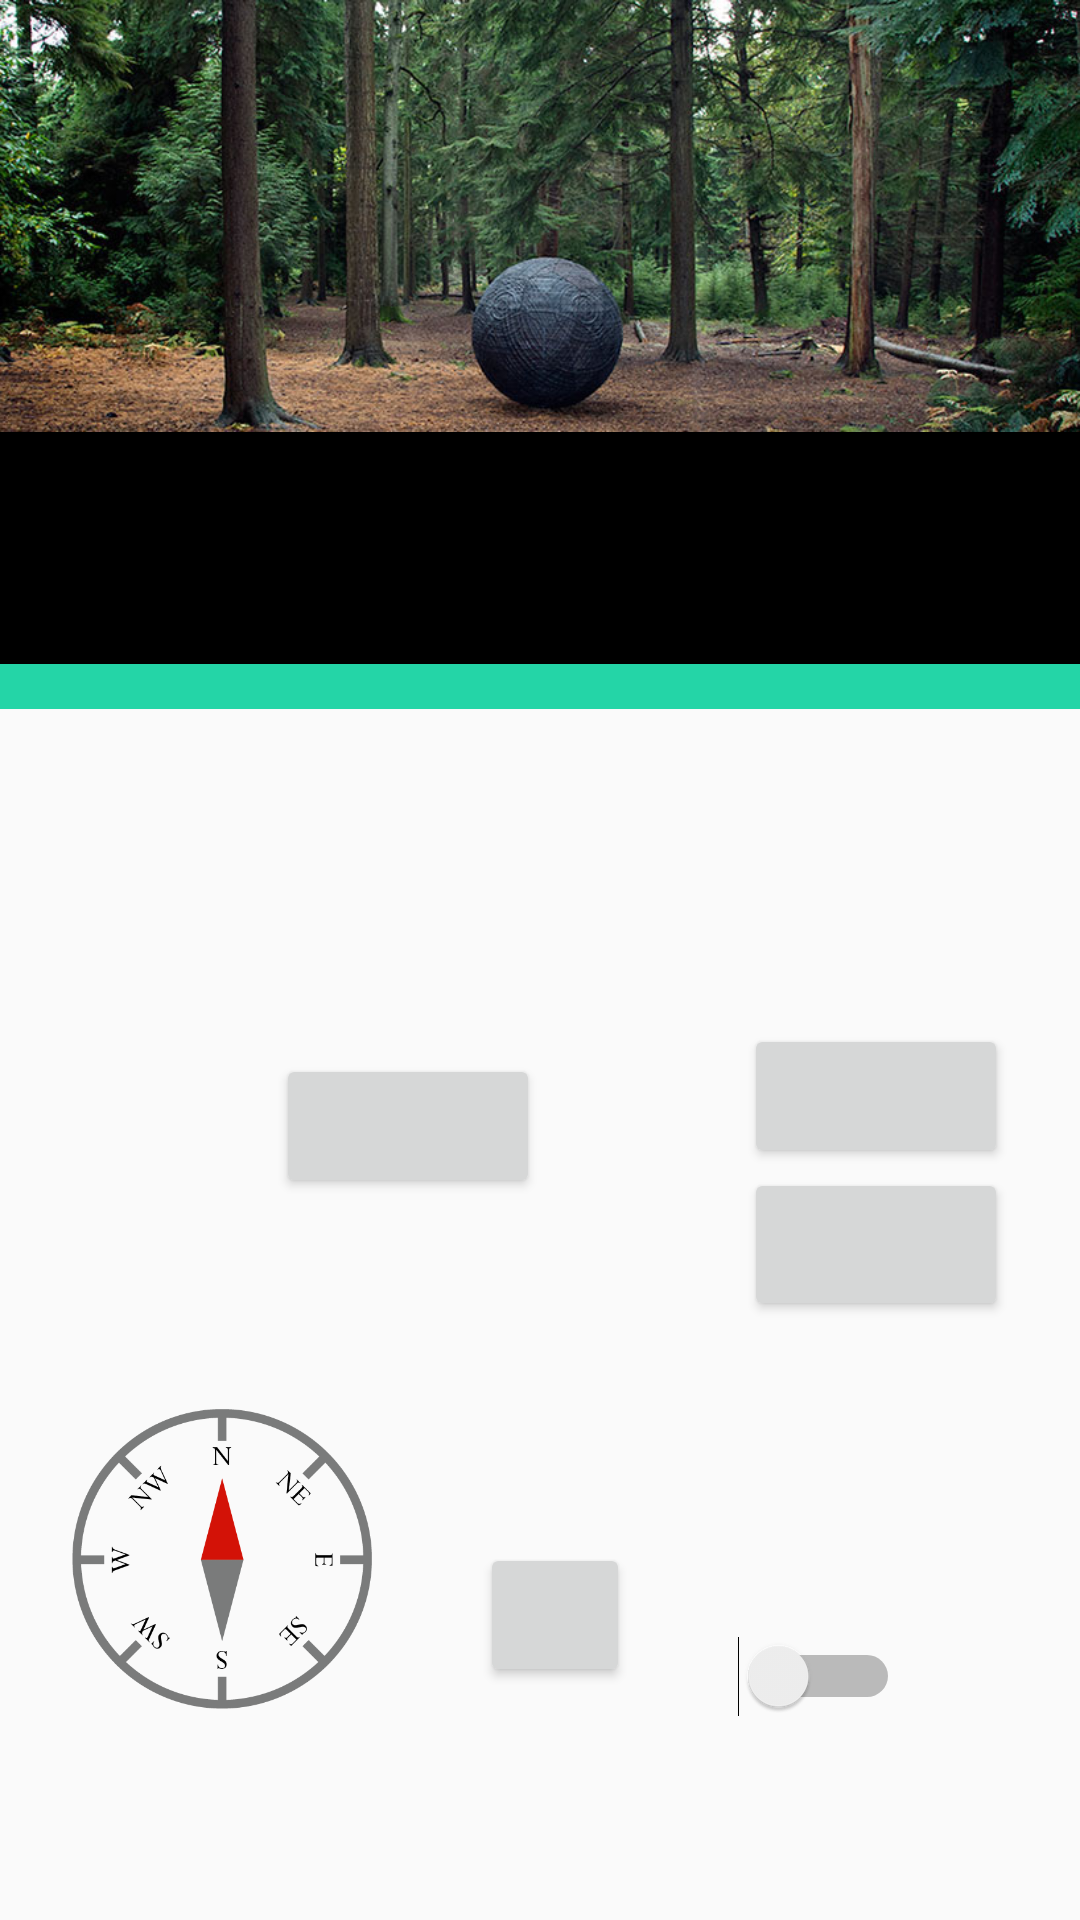

Icons on this 1080 x 1920 Android screen, each with the point to tap as point (x, y):
compass: point (222, 1559)
